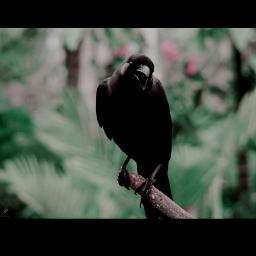Crow: (96, 53, 174, 218)
